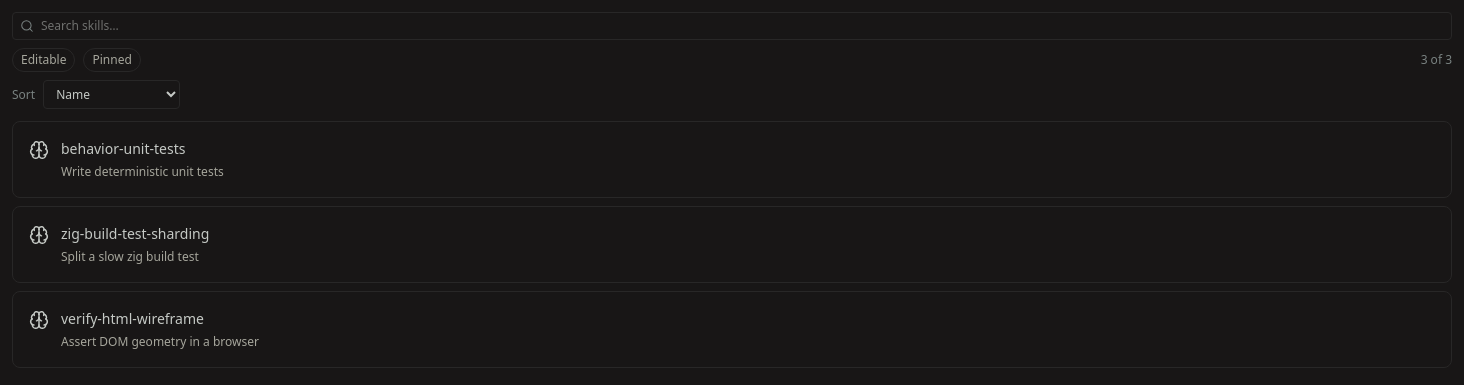
Test: SkillList — searching › counts the rows the query leaves, out of the loaded total
The width and height of the screenshot is (1464, 385).
Type "zig" into the field with test id "skill-search-input" at (732, 26), box top-left (12, 12), bottom-right (1452, 40)
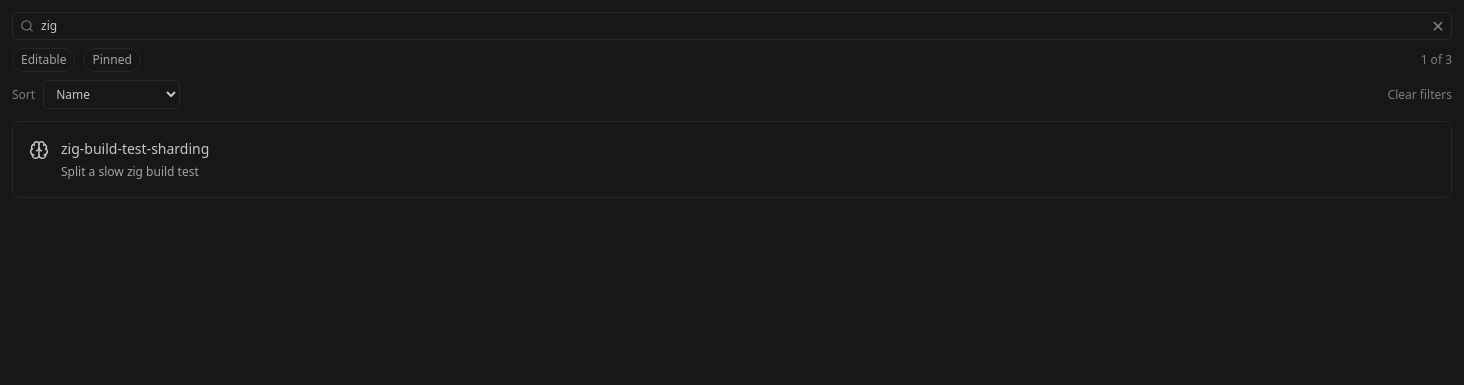
Now the text with test id "skill-count" reads "1 of 3", box top-left (1421, 51), bottom-right (1452, 68)
